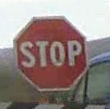stop: (11, 15, 88, 90)
